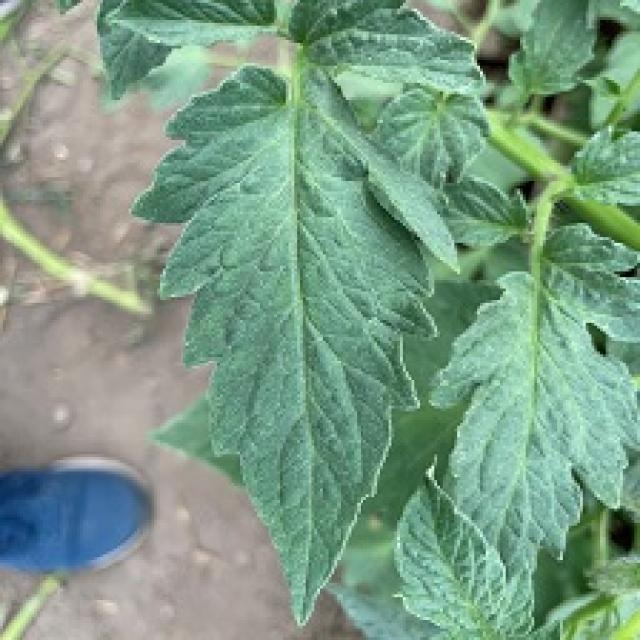Healthy: (22, 0, 546, 631), (423, 222, 640, 577)
